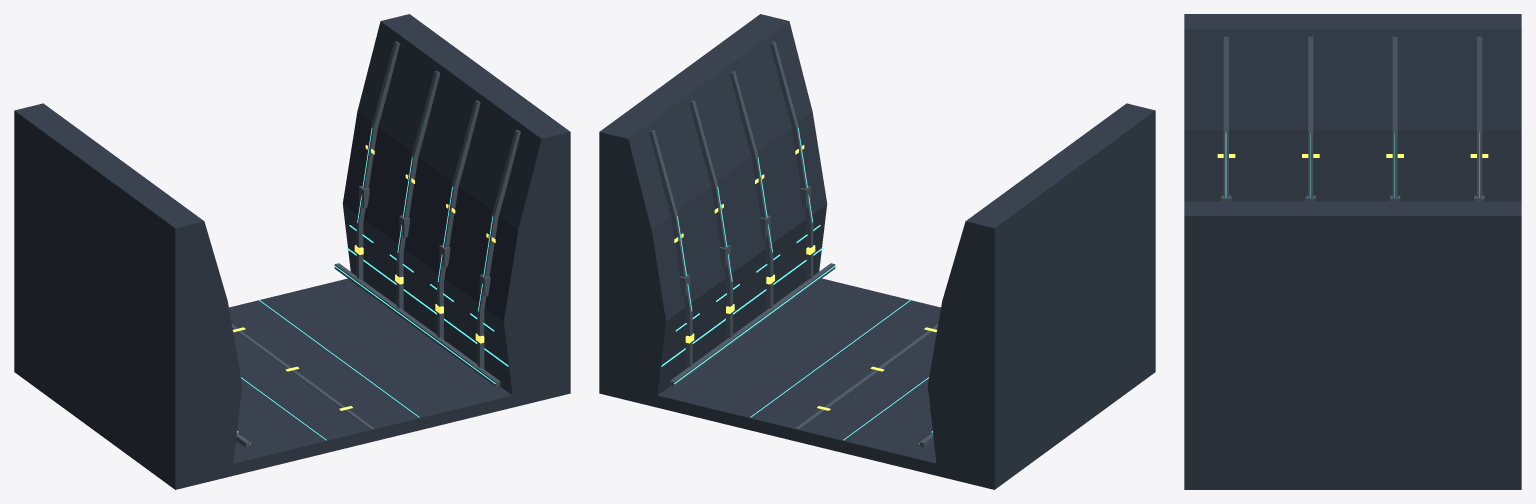
File: canyon_straight.glb
The picture shows the model from 3 angles, left to right: view 1: azimuth 30°, elevation 25°; view 2: azimuth 150°, elevation 25°; view 3: azimuth 270°, elevation 25°; orthographic projection. The views are drawn at different scales.
Visible parts, largest first — view 1: canyon_straight; view 2: canyon_straight; view 3: canyon_straight.
Part boxes in pixels (<box>): canyon_straight: <box>14,14,570,489</box>; canyon_straight: <box>599,14,1155,489</box>; canyon_straight: <box>1184,14,1521,489</box>.
Size of the model in its own units: 136 by 86 by 96.
